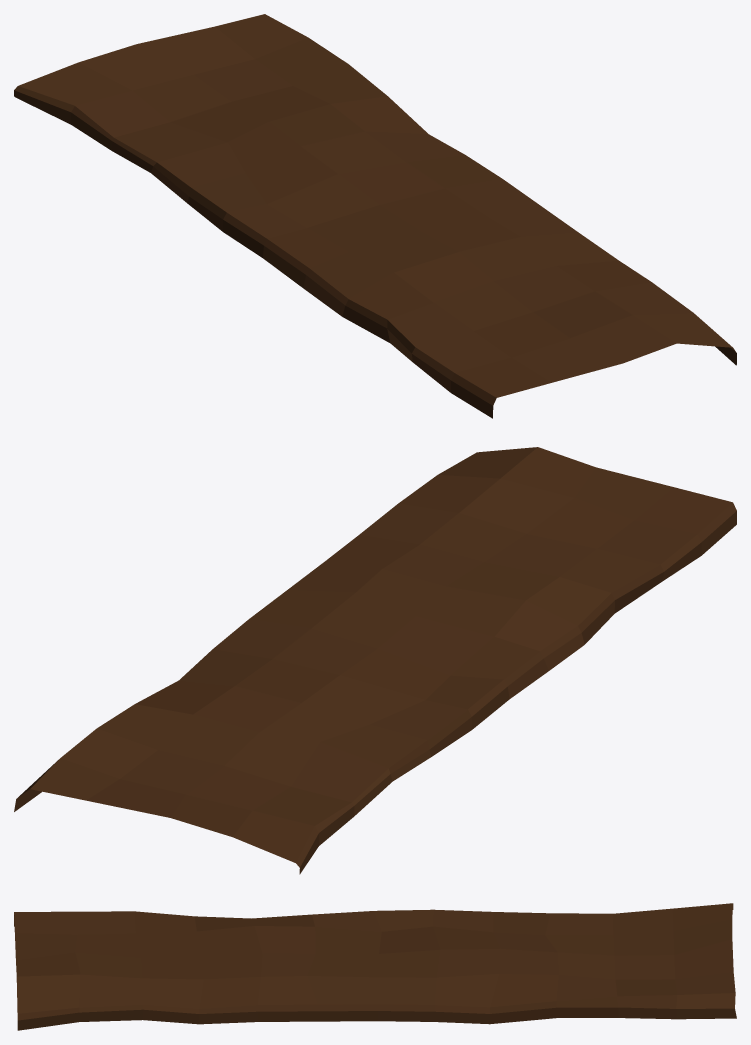
Rendered from RoadDirty_6.fbx.
The picture shows the model from 3 angles, top to bottom: view 1: azimuth 30°, elevation 25°; view 2: azimuth 150°, elevation 25°; view 3: azimuth 270°, elevation 25°; orthographic projection. The views are drawn at different scales.
Visible parts, largest first — view 1: RoadDirty_6; view 2: RoadDirty_6; view 3: RoadDirty_6.
Boxes of the visible parts, <box> form: RoadDirty_6: <box>14,14,736,418</box>; RoadDirty_6: <box>14,447,736,874</box>; RoadDirty_6: <box>14,903,736,1030</box>.
Size of the model in its own units: 330 by 42.83 by 914.
